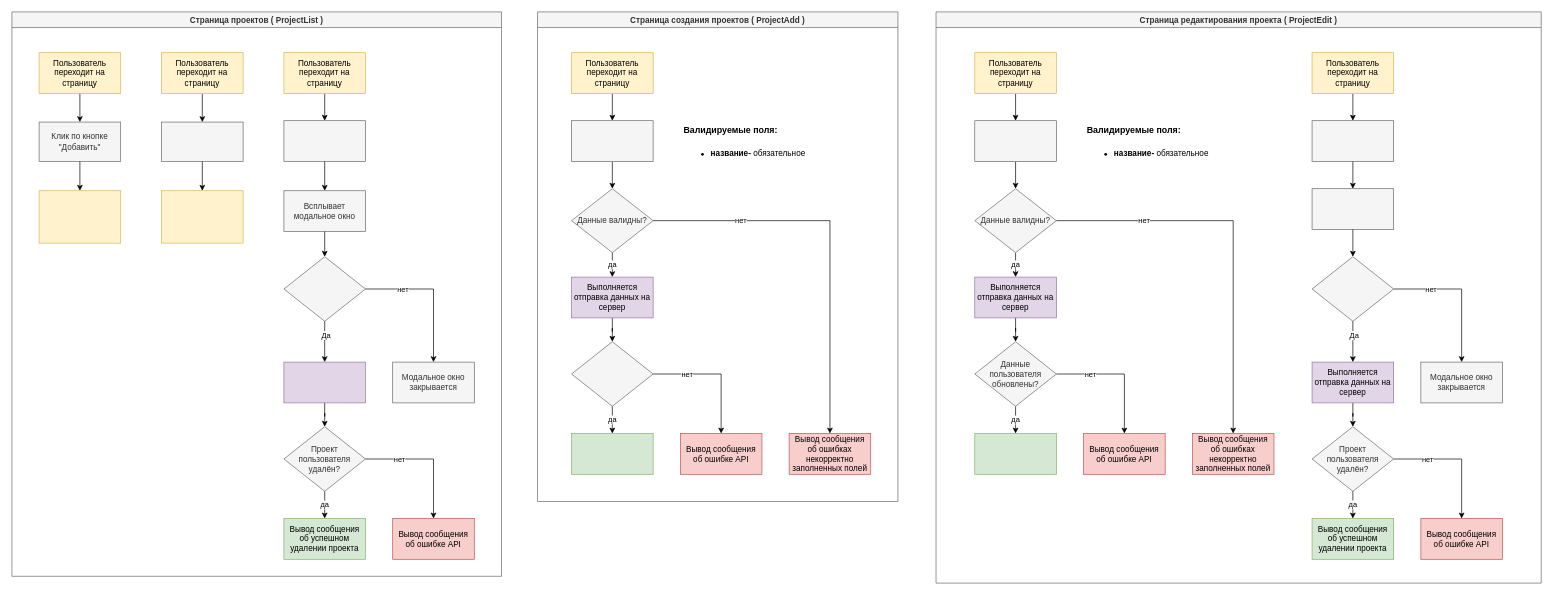
This 1553x595 diagram has some shape labels left out. Each missing label, with the centre of its shape:
Всплывает модальное окно с подтверждением: [1352,209]
Вывод сообщения об успешном обновлении проекта: [1015,453]
Вывод сообщения об успешном создании проекта: [612,453]
Выполняется отправка данных на сервере: [324,382]
Заполнение данных и отправка формы: [612,141]
Изменение данных и отправка формы: [1015,141]
Клик по иконке "Карандаш" определённого проекта: [202,141]
Клик по иконке "Корзина": [324,141]
Перенаправле-ние на страницу добавления проектов (ProjectAdd): [79,216]
Перенаправле-ние на страницу редактирования проектов (ProjectEdit): [202,216]
Пользователь нажимает на кнопку "Ещё" и выбирает удаление: [1352,141]
Пользователь подтвердил удаление?: [1352,288]
Пользователь подтверждает удаление?: [324,288]
Проекта создан?: [612,373]
